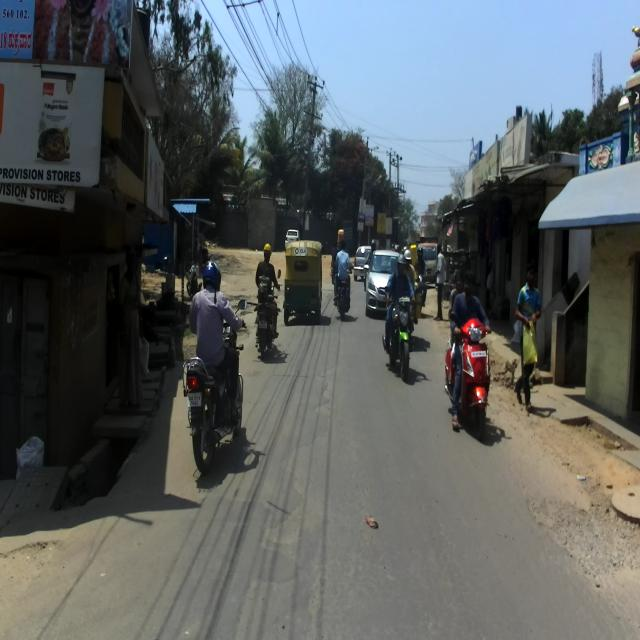auto ahead at: (289, 242, 323, 322)
motorcycle ahead at: (180, 351, 250, 470), (445, 311, 493, 439)
person ahead at: (518, 263, 542, 422)
